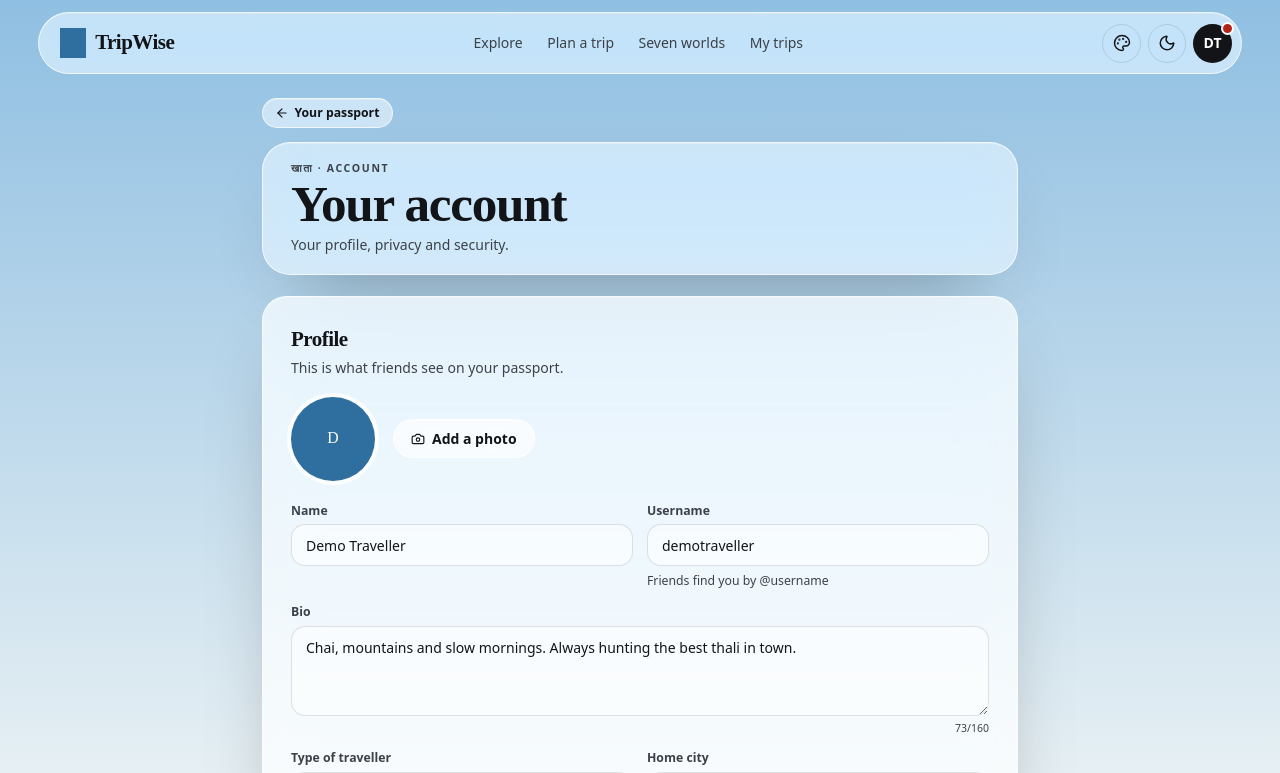
Test: AccountPage › shows the profile and saves changes
Step 1. Replace the text in the text box labelled "Bio" with "Trains over planes." → [640, 671], box [291,626,989,716]
(page scrolled)
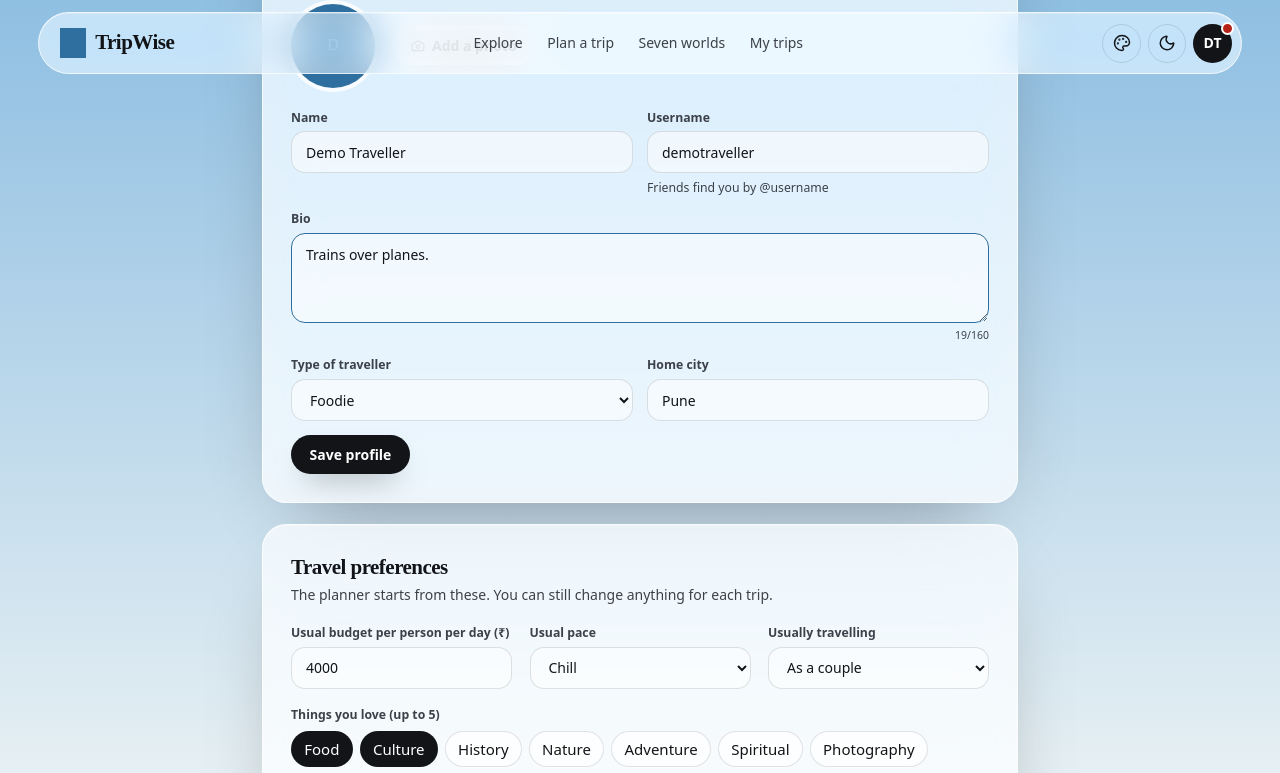
Step 2. Select "Backpacker" in the dropdown labelled "Type of traveller" → [462, 400], box [291,379,633,421]
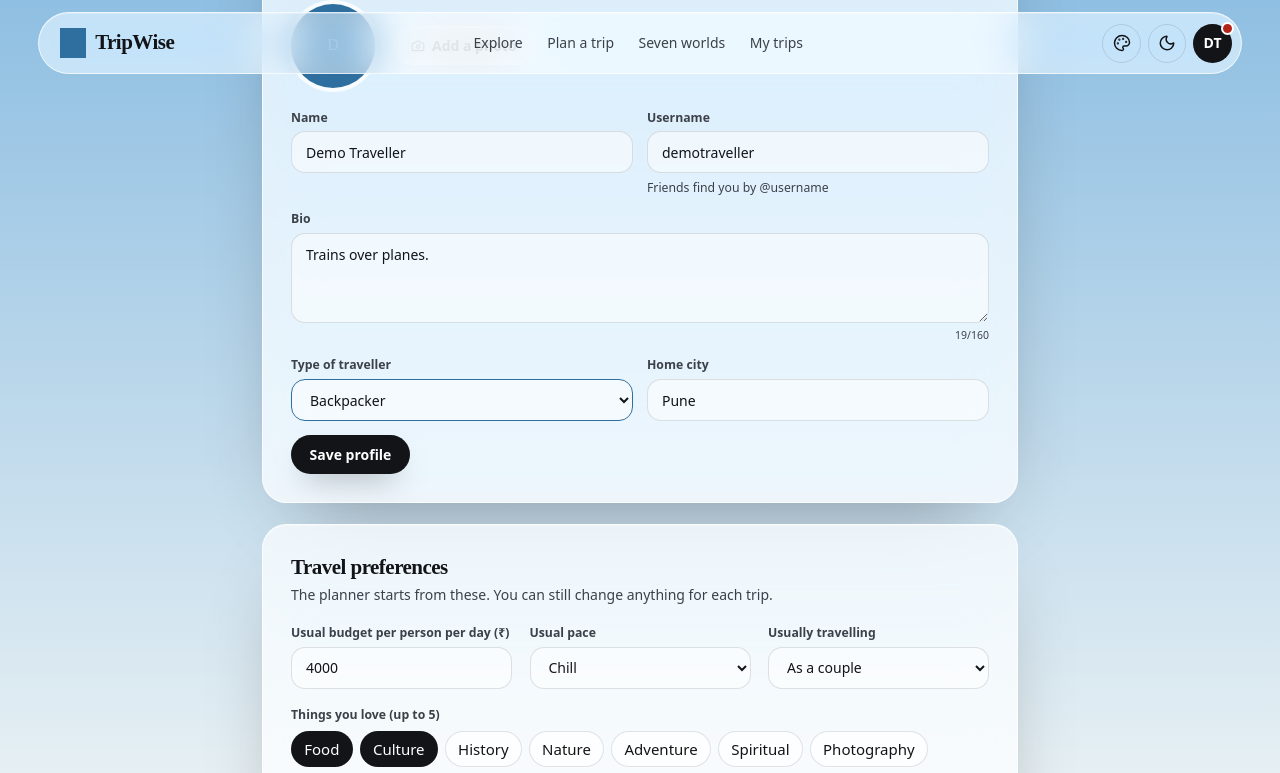
Step 3. Click the button "Save profile" → [350, 454], box [291,435,410,474]
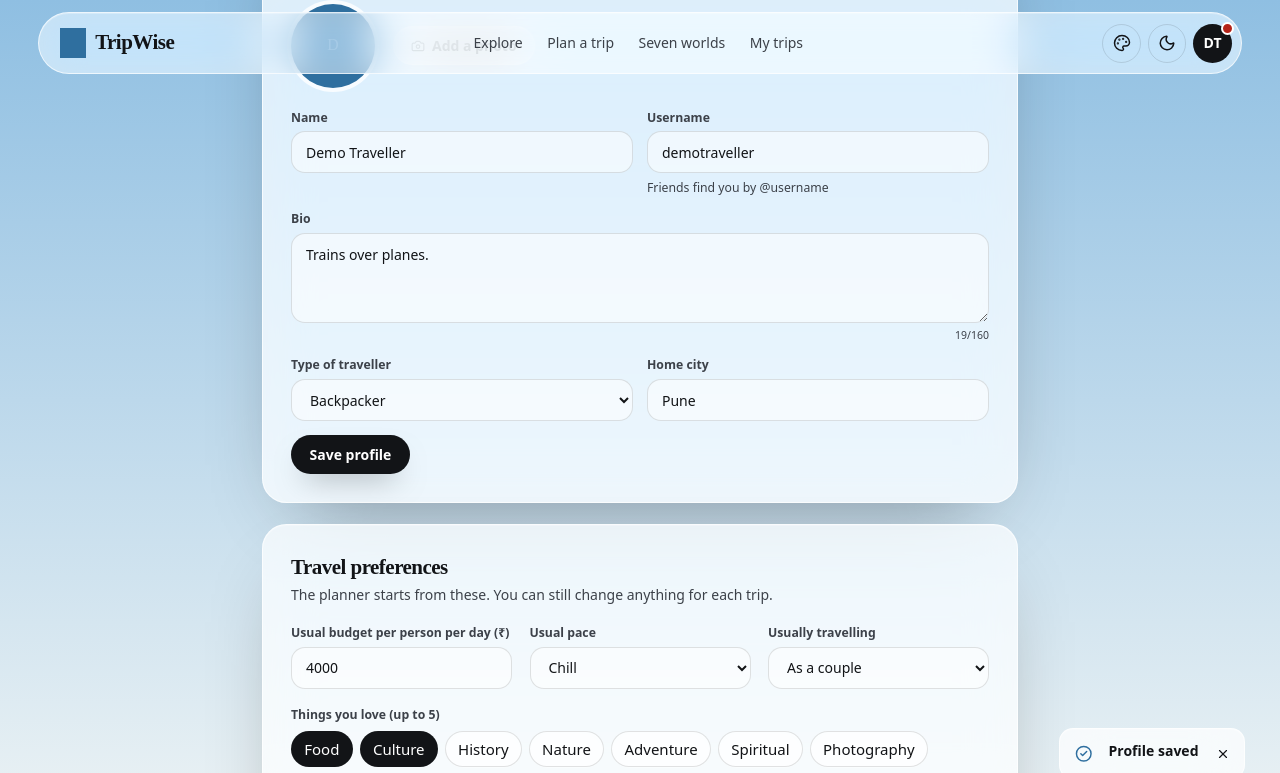
Expected: the text "Profile saved" is shown, [1109,740,1198,762]
